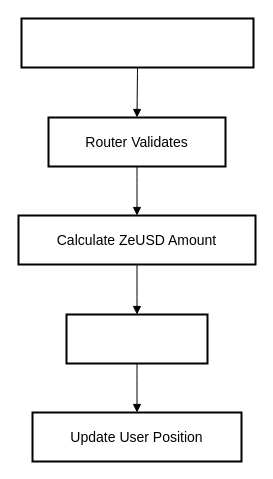
This 273x479 diagram has some shape labels left out. Each missing label, with the centre of its shape:
"Mint ZeUSD" goes at point (136, 338).
"User Deposits Collateral" goes at point (137, 42).
